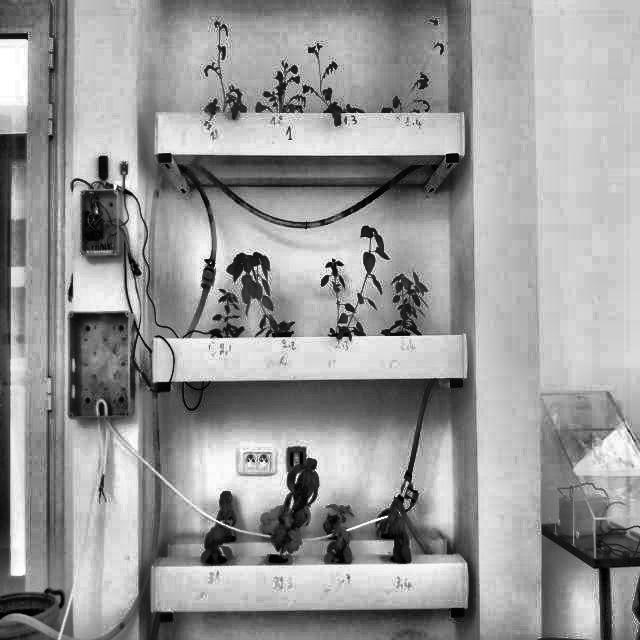plants: (380, 14, 448, 114), (224, 251, 296, 335), (338, 222, 391, 336), (270, 456, 323, 559), (302, 38, 366, 116), (203, 18, 250, 116), (321, 256, 361, 336), (251, 62, 310, 114), (387, 270, 426, 336), (321, 500, 359, 564), (209, 286, 244, 338), (387, 498, 410, 564), (200, 524, 234, 564), (215, 486, 239, 542), (371, 507, 407, 540)
